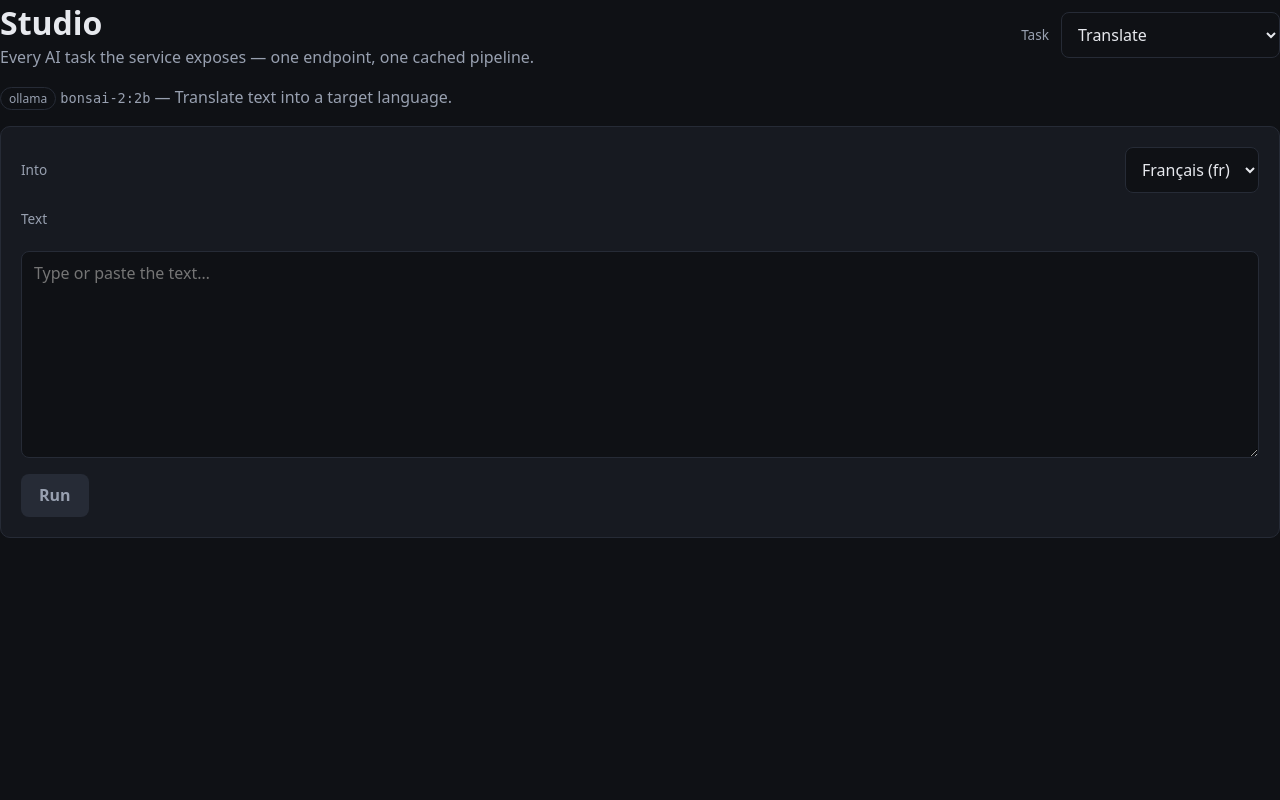
Scenario: Studio › shows a model badge and copies the JSON when the result has no cache flag
Later steps or results of the test are not shown.
In the text box labelled "Text": x=640, y=354 [21,251,1259,458], type "Hello"
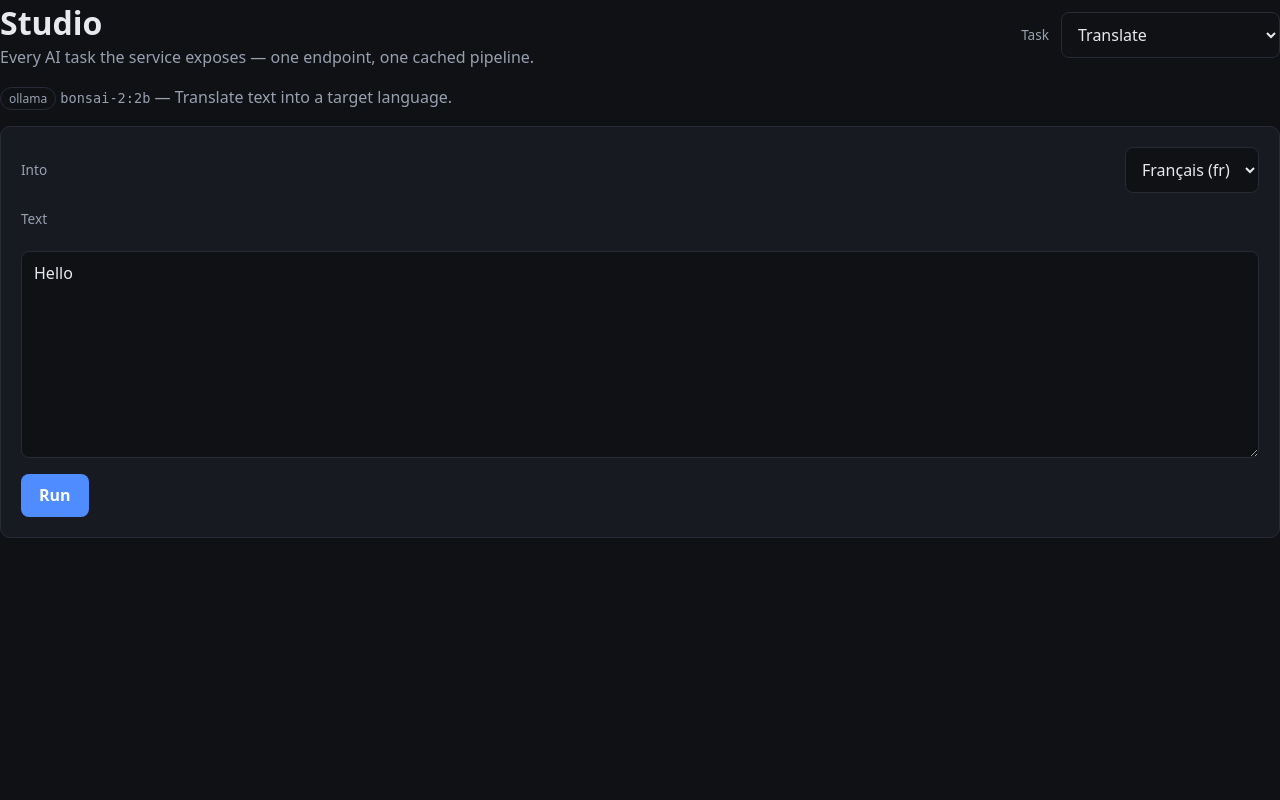
Click the button "Run": x=55, y=496 [21,474,89,517]
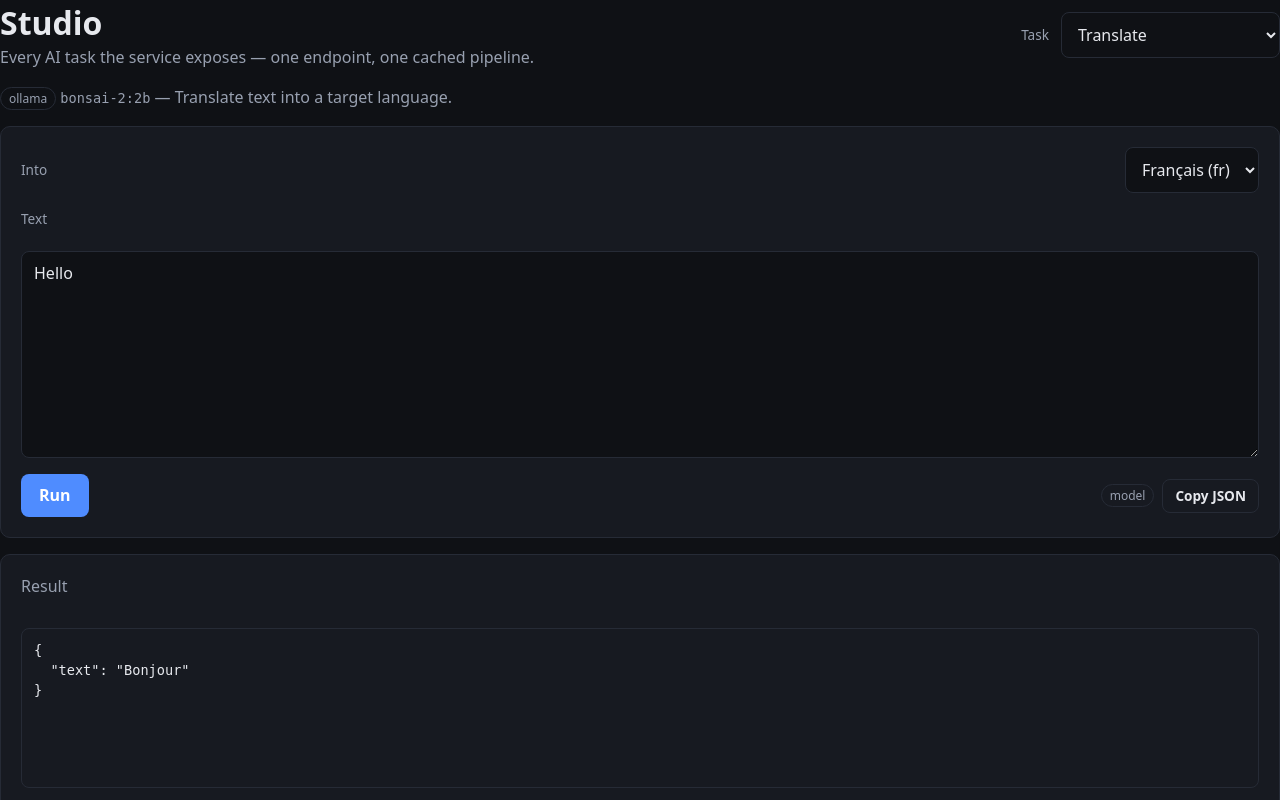
Now the button "Copy JSON" is shown, box [1162,479,1259,513]
Now the text "model" is shown, box [1101,484,1154,508]
